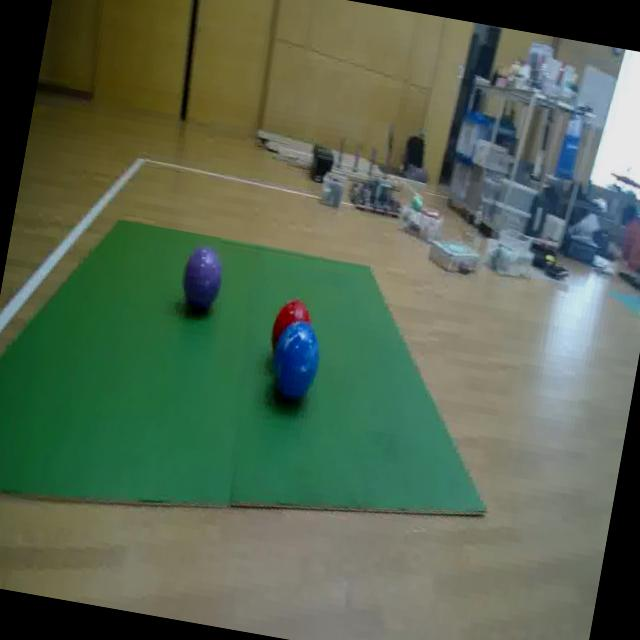blue_ball: (266, 324, 322, 410)
purple_ball: (175, 244, 223, 318)
red_ball: (266, 298, 313, 361)
